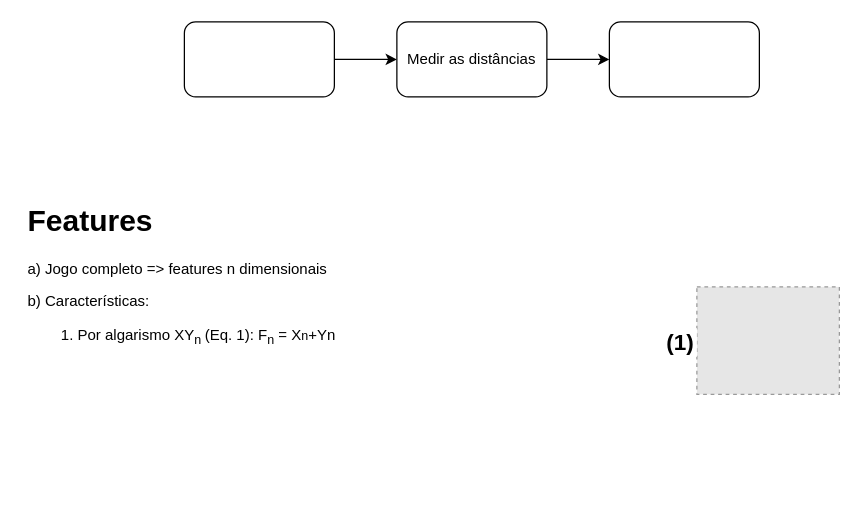
Some shapes in this 861 by 506 pixel diagram are drawn without their labels. Grey dashed boxes stand in for pictures. Each missing label, with the box of its shape:
Agrupar: (608, 21, 759, 97)
Extrair características do jogo: (183, 21, 334, 97)
